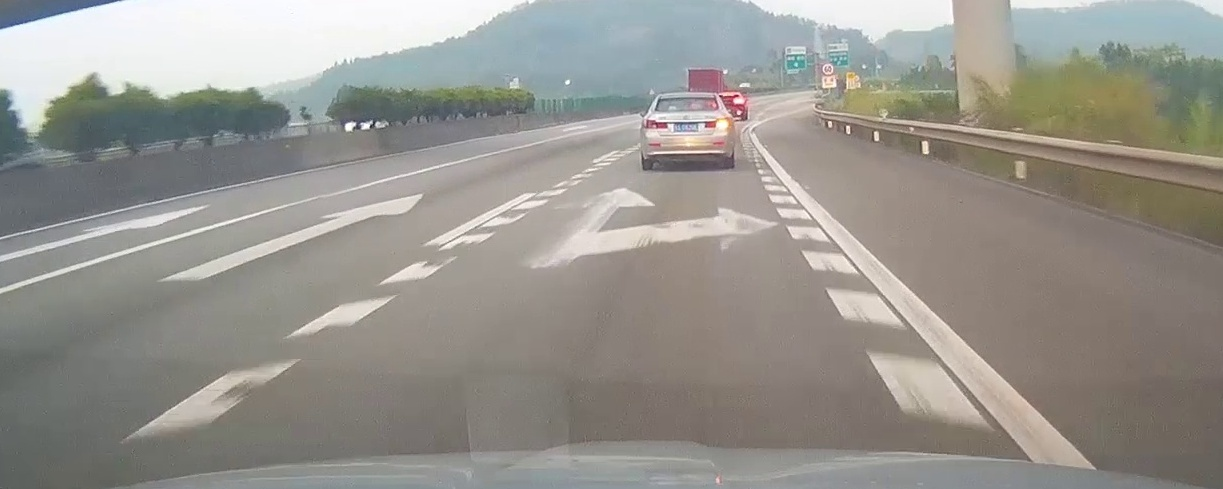L_light: (644, 120, 667, 129)
R_light: (704, 118, 729, 129)
T_light: (679, 106, 692, 110)
day-right: (640, 92, 734, 168)
